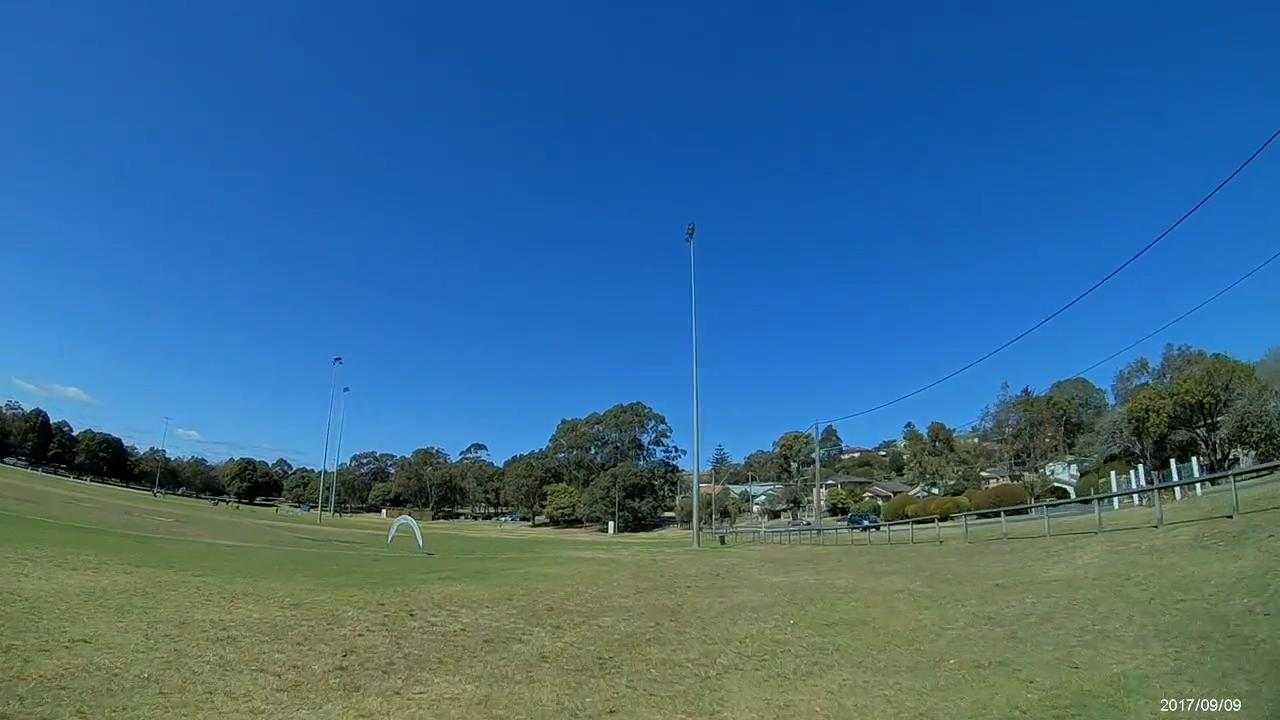gate: (386, 512, 422, 554)
